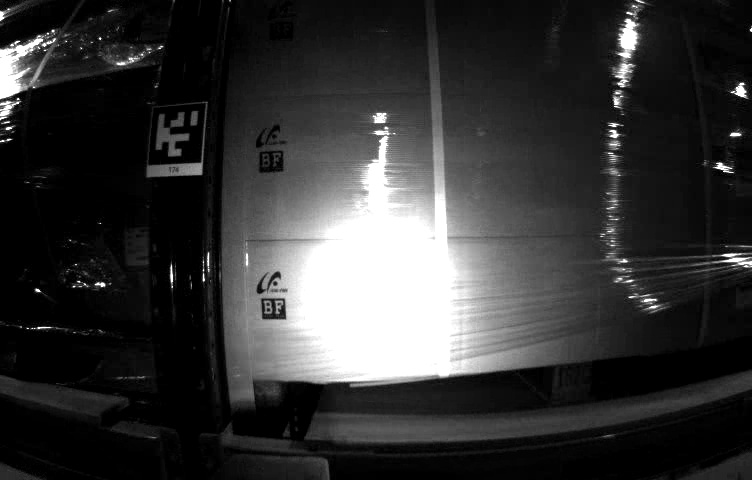True Barcode: (125, 228, 151, 265)
